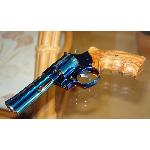Pistol: (2, 42, 148, 116)
